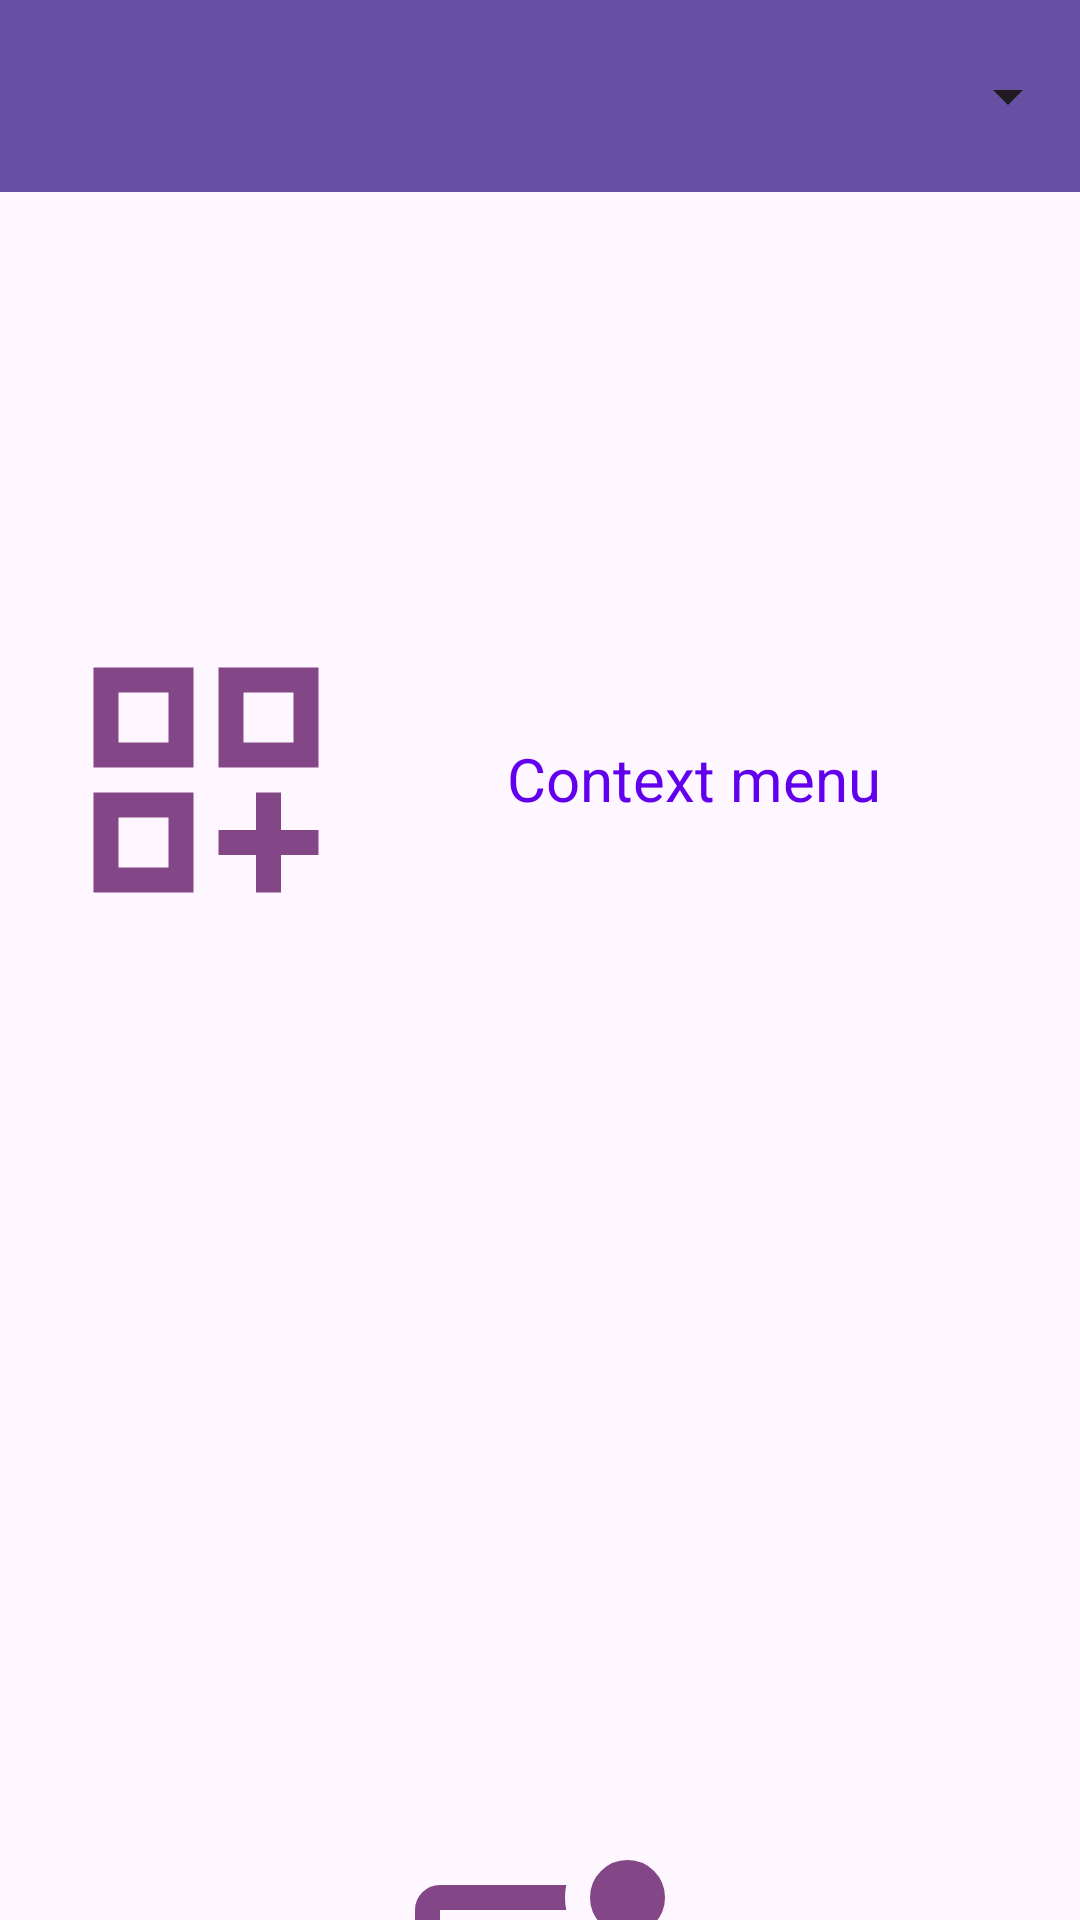

Where icons sit on this 1080w x 1920h app screen, as box(x1, y1, x2, y2):
dashboard customize: box(93, 667, 319, 893)
